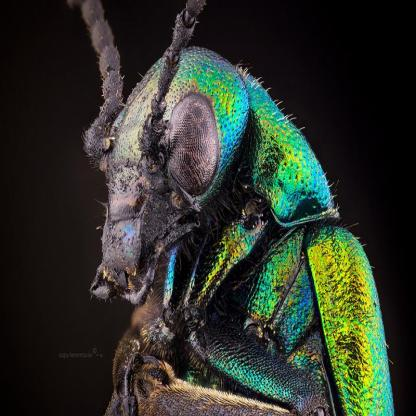beetle: (70, 0, 397, 416)
